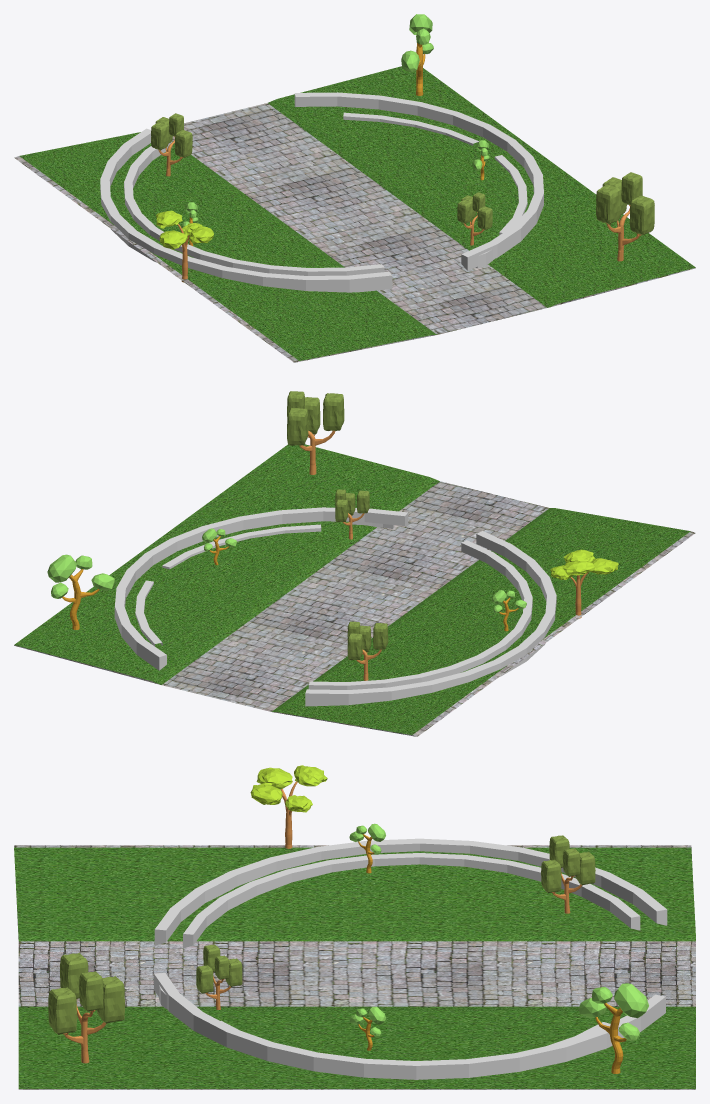
File: land01.fbx
3 renders of one model, top to bottom at view 1: azimuth 30°, elevation 25°; view 2: azimuth 150°, elevation 25°; view 3: azimuth 270°, elevation 25°, orthographic. The views are drawn at different scales.
Parts seen in each view (by area): view 1: Plane.001, Plane, Cylinder, Cylinder.001, Object_16.002, Object_7, Object_16.001, Object_8.002, Object_16; view 2: Plane.001, Plane, Cylinder, Cylinder.001, Object_16.002, Object_8.002, Object_7, Object_16.001, Object_16, Object_8, Object_8.001; view 3: Plane.001, Plane, Cylinder, Cylinder.001, Object_16.002, Object_8.002, Object_7, Object_16.001, Object_16, Object_8, Object_8.001.
Part boxes in pixels (left/top/right/bottom): Plane.001: left=19, top=66, right=695, bottom=360; Plane: left=14, top=103, right=695, bottom=362; Cylinder: left=100, top=92, right=543, bottom=292; Cylinder.001: left=124, top=112, right=527, bottom=275; Object_16.002: left=596, top=172, right=654, bottom=261; Object_7: left=156, top=210, right=213, bottom=282; Object_16.001: left=151, top=113, right=192, bottom=176; Object_8.002: left=401, top=14, right=433, bottom=95; Object_16: left=457, top=192, right=492, bottom=245; Plane.001: left=14, top=444, right=690, bottom=734; Plane: left=14, top=481, right=695, bottom=736; Cylinder: left=114, top=507, right=556, bottom=706; Cylinder.001: left=135, top=524, right=532, bottom=689; Object_16.002: left=287, top=391, right=344, bottom=474; Object_8.002: left=47, top=554, right=115, bottom=629; Object_7: left=550, top=549, right=618, bottom=618; Object_16.001: left=347, top=621, right=388, bottom=680; Object_16: left=335, top=489, right=369, bottom=539; Object_8: left=491, top=590, right=526, bottom=631; Object_8.001: left=202, top=528, right=237, bottom=565; Plane.001: left=14, top=847, right=695, bottom=1088; Plane: left=14, top=845, right=695, bottom=1089; Cylinder: left=154, top=838, right=667, bottom=1079; Cylinder.001: left=183, top=853, right=640, bottom=1045; Object_16.002: left=48, top=953, right=124, bottom=1063; Object_8.002: left=578, top=983, right=648, bottom=1073; Object_7: left=250, top=765, right=327, bottom=848; Object_16.001: left=541, top=835, right=595, bottom=913; Object_16: left=196, top=944, right=242, bottom=1009; Object_8: left=349, top=823, right=385, bottom=873; Object_8.001: left=349, top=1006, right=386, bottom=1050.
Size of the model in its own units: 3554 by 702 by 4039.
15 materials, 2 textured.
